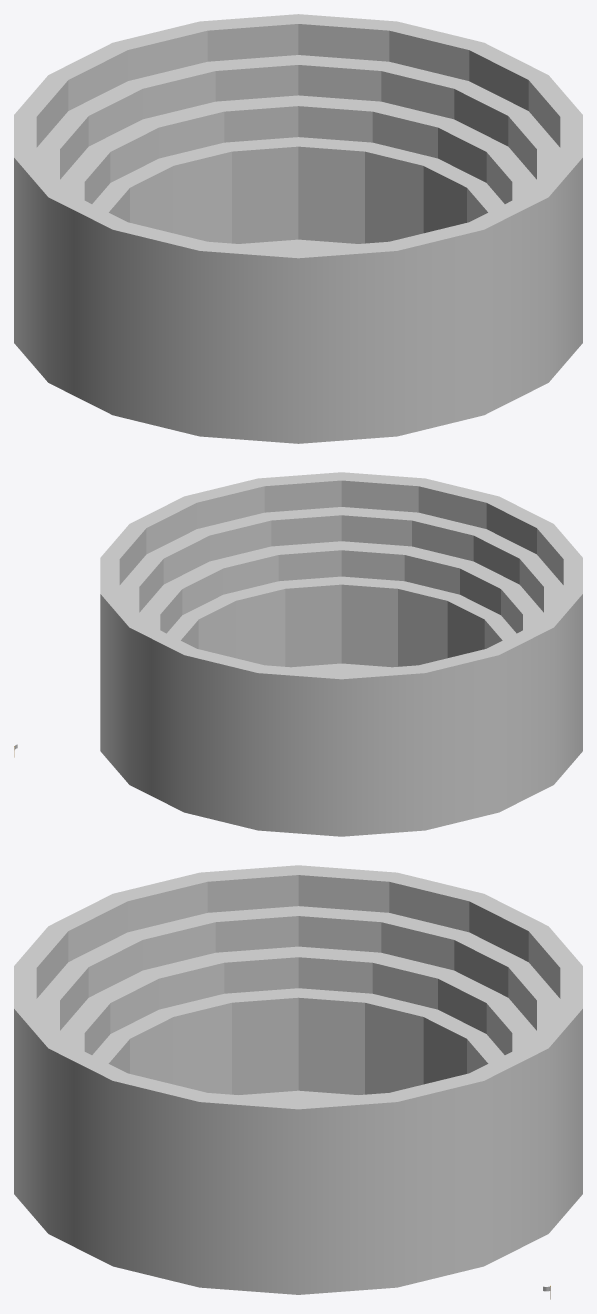
The model's file is Bandera.FBX.
The picture shows the model from 3 angles, top to bottom: view 1: azimuth 30°, elevation 25°; view 2: azimuth 150°, elevation 25°; view 3: azimuth 270°, elevation 25°; orthographic projection. The views are drawn at different scales.
Visible parts, largest first — view 1: Cylinder001; view 2: Cylinder001; view 3: Cylinder001.
Part boxes in pixels (x1,y1,x2,y2): Cylinder001: (14, 14, 582, 443); Cylinder001: (100, 472, 582, 836); Cylinder001: (14, 865, 582, 1294).
Size of the model in its own units: 4006 by 1391 by 3865.
